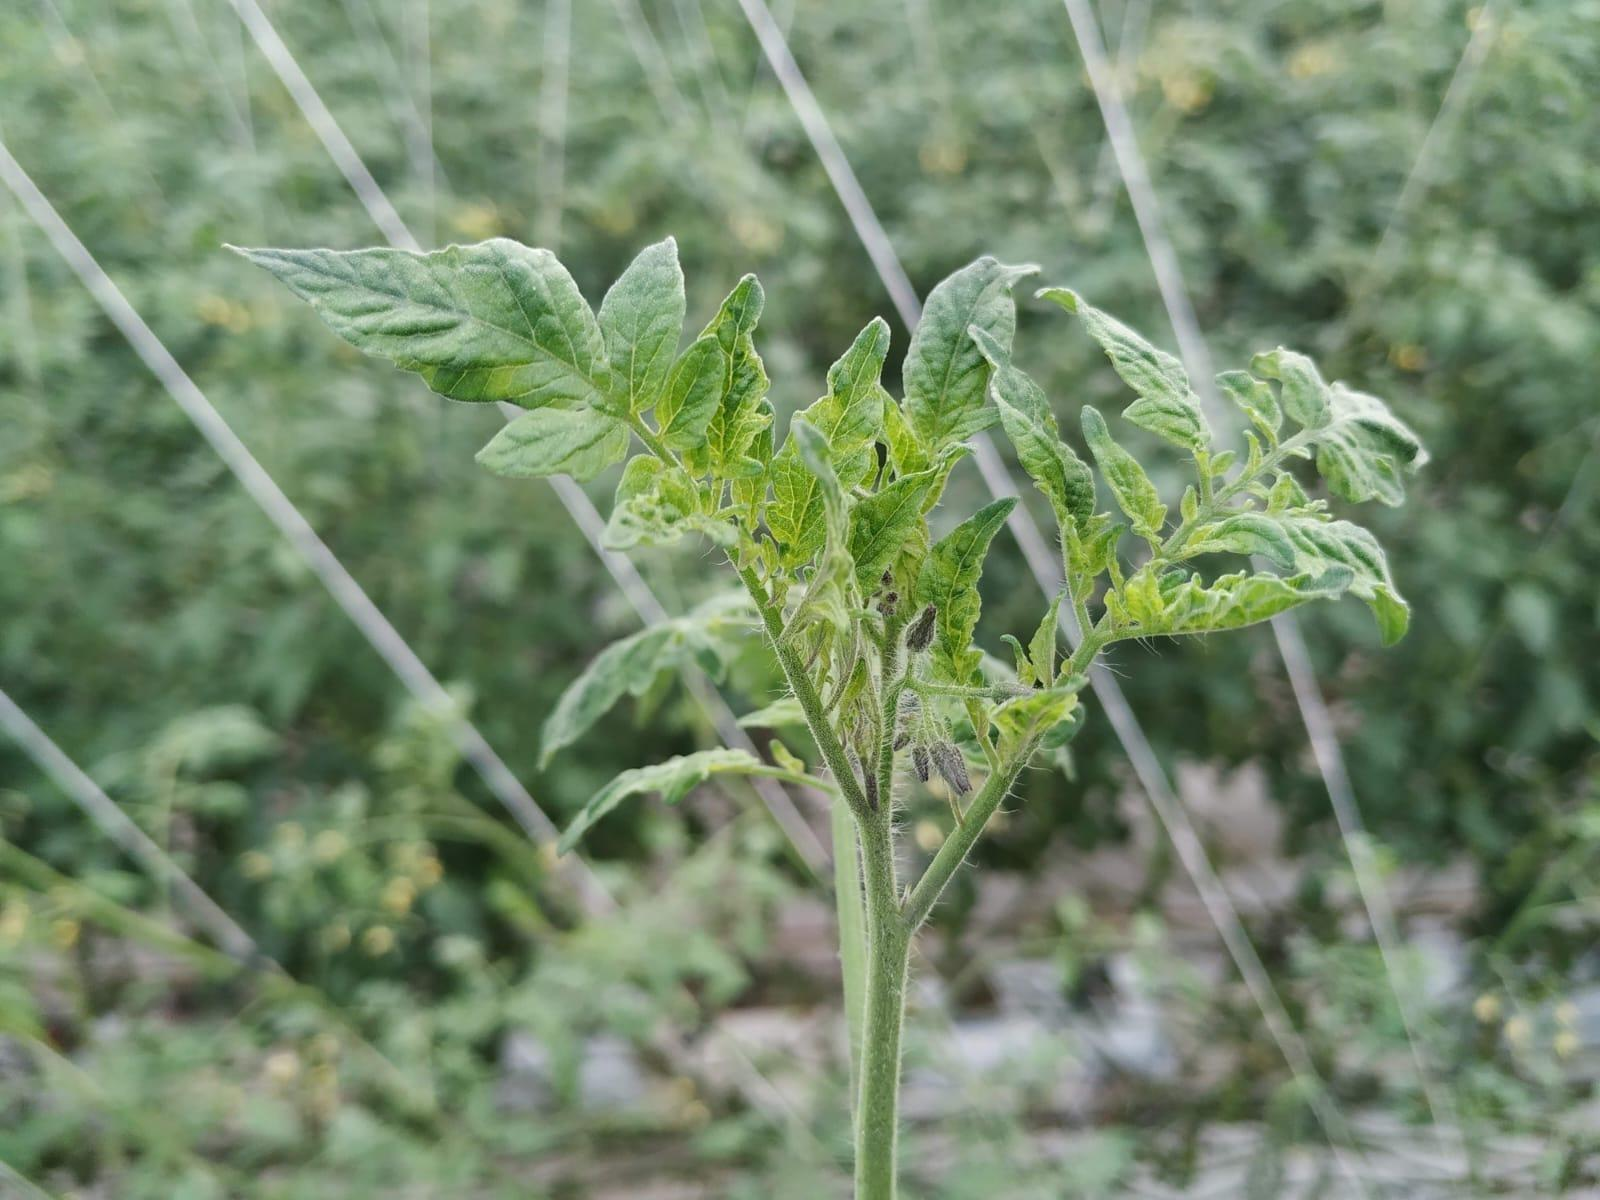Rugose leaf: (766, 319, 891, 572), (918, 497, 1013, 684), (700, 275, 772, 478), (1081, 406, 1165, 547), (850, 471, 931, 597), (656, 334, 724, 450)
